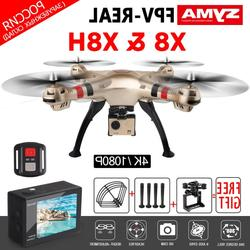drone: (1, 56, 249, 159)
